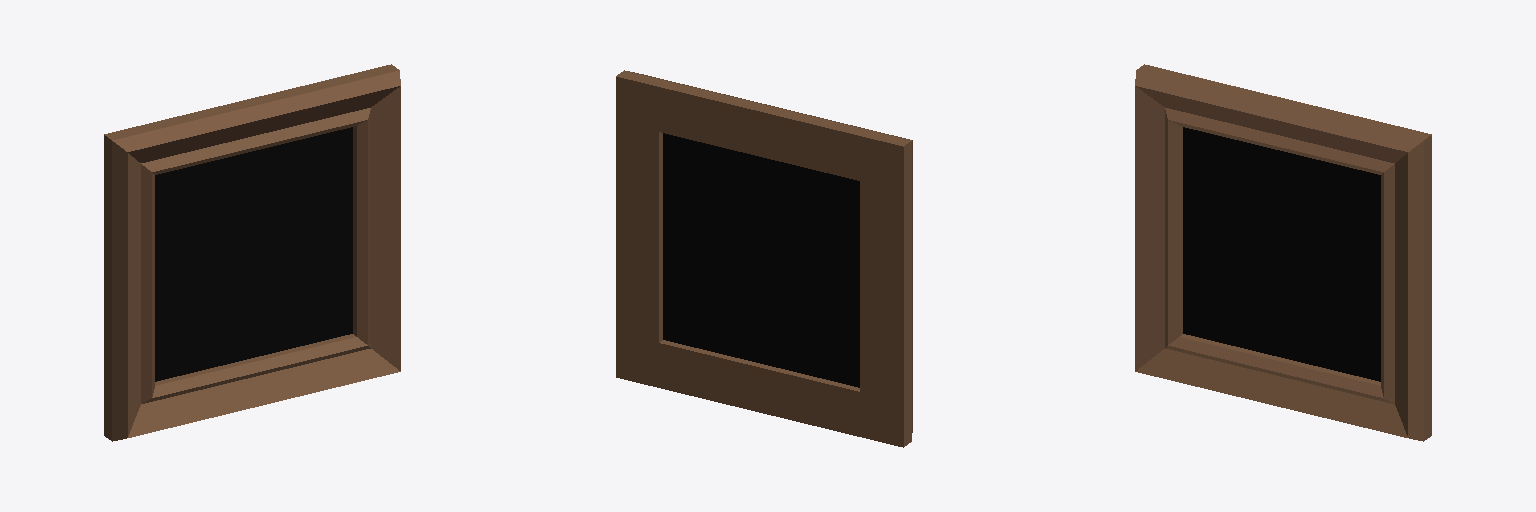
The model's file is Prop_Misc_Picture_Square_Small.obj.
The picture shows the model from 3 angles: view 1: azimuth 30°, elevation 25°; view 2: azimuth 150°, elevation 25°; view 3: azimuth 330°, elevation 25°; orthographic projection.
Visible parts, largest first — view 1: object2, object1; view 2: object2, object1; view 3: object2, object1.
Boxes of the visible parts, x1,y1,x2,y2 form: object2: [104, 64, 400, 441]; object1: [155, 127, 352, 381]; object2: [616, 70, 912, 447]; object1: [663, 133, 859, 387]; object2: [1135, 64, 1431, 441]; object1: [1183, 127, 1380, 381].
Bounding box in the file's own units: 0.5 × 0.5 × 0.05.